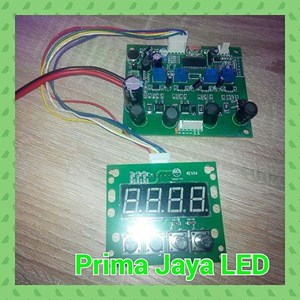capacitor: (124, 75, 144, 103), (235, 102, 258, 124), (129, 103, 147, 126), (162, 106, 179, 129), (203, 102, 219, 126), (151, 53, 162, 68), (193, 79, 203, 89), (216, 76, 224, 88), (166, 75, 173, 87)
